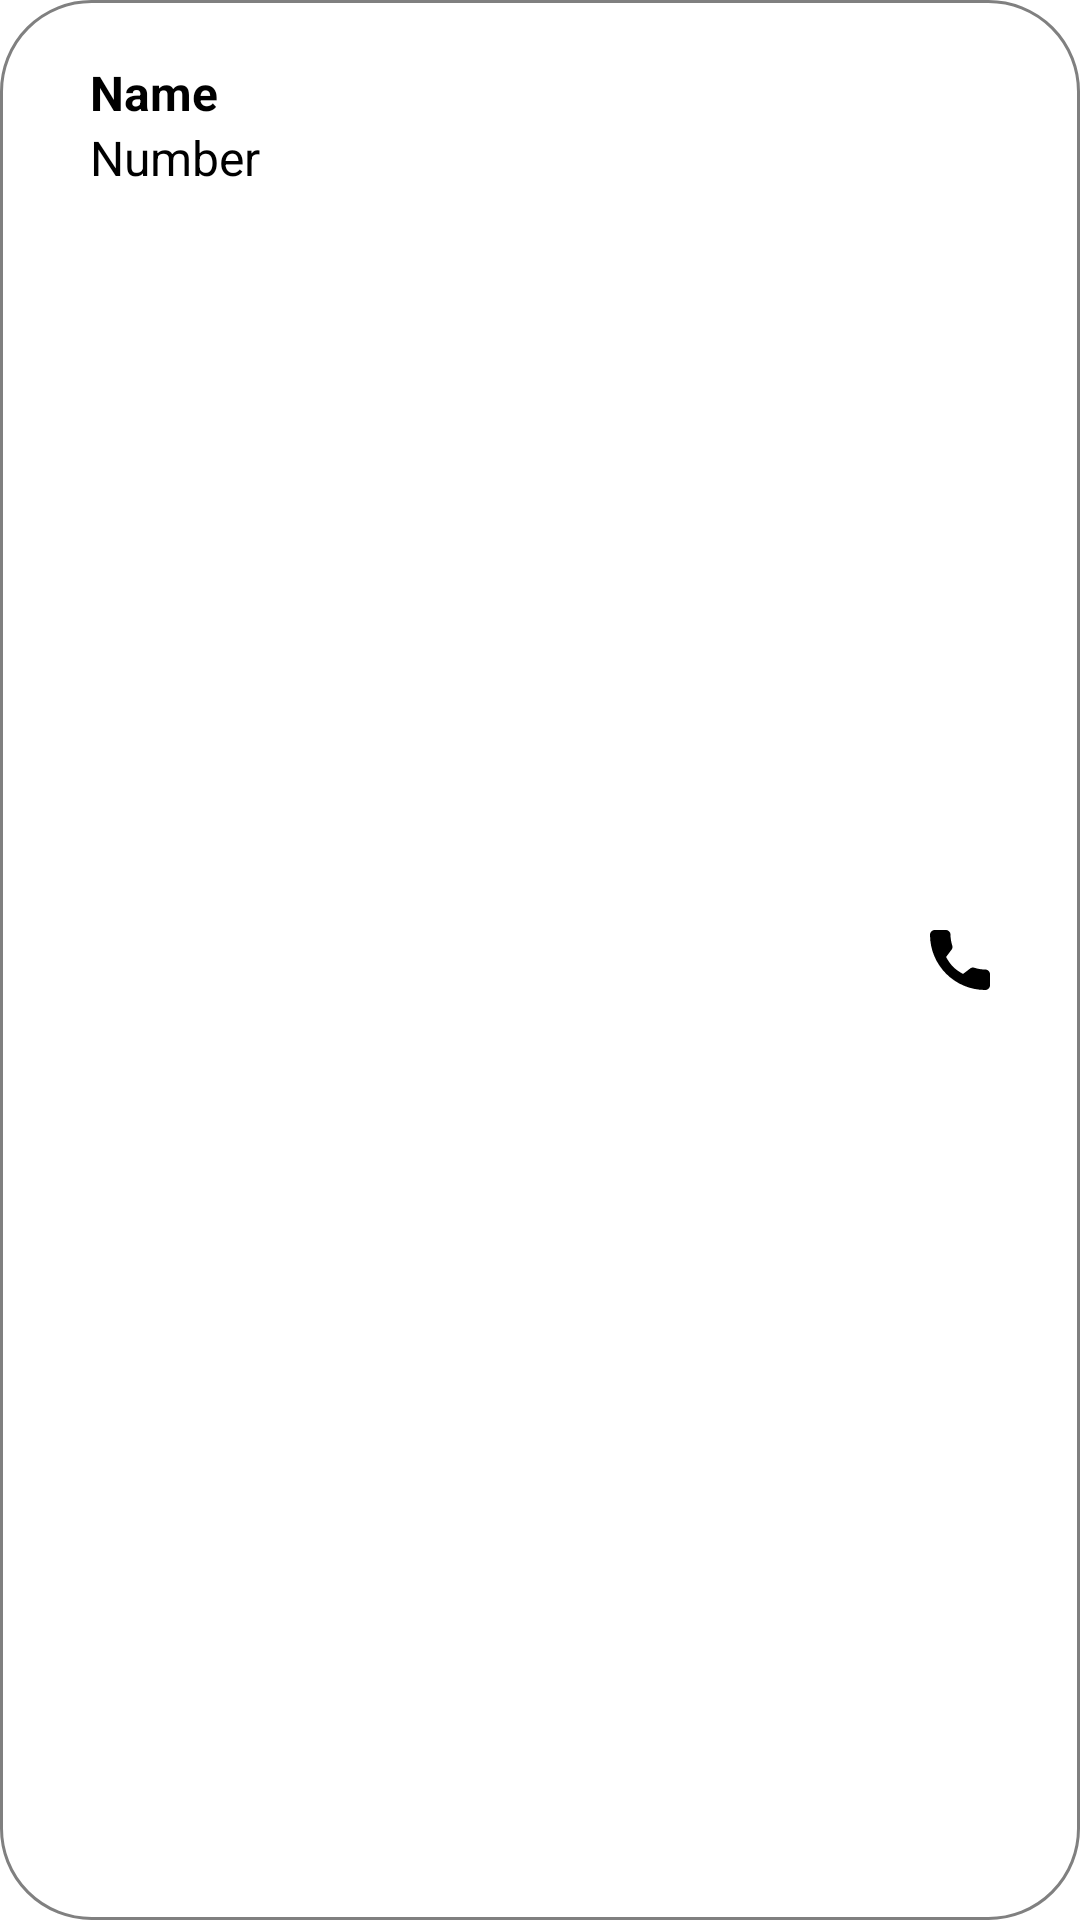

Screen size 1080 × 1920. Icon name, then its box in pixels as (left=x1, top=y1, right=x2, bottom=y2):
phone call: (left=930, top=930, right=990, bottom=990)
